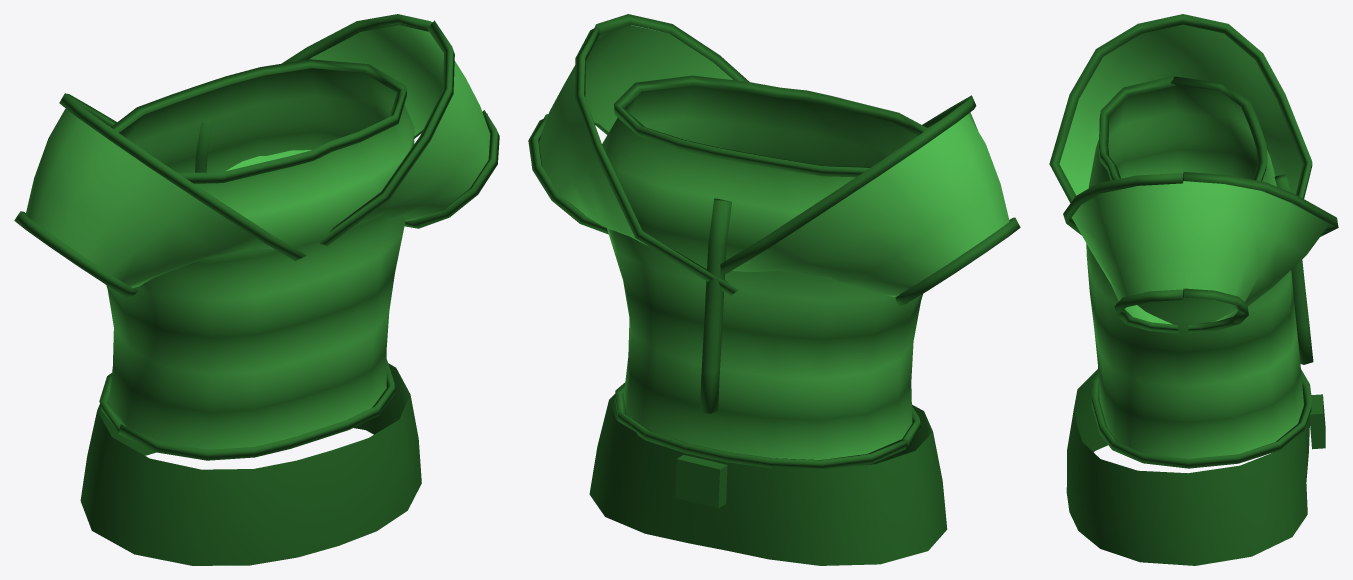
File: chlorophyte_plate_mail.glb
The picture shows the model from 3 angles, left to right: view 1: azimuth 30°, elevation 25°; view 2: azimuth 150°, elevation 25°; view 3: azimuth 270°, elevation 25°; orthographic projection. The views are drawn at different scales.
Visible parts, largest first — view 1: chlorophyte_plate_mail_chest; view 2: chlorophyte_plate_mail_chest; view 3: chlorophyte_plate_mail_chest.
Boxes of the visible parts, x1,y1,x2,y2 form: chlorophyte_plate_mail_chest: (14, 14, 499, 565); chlorophyte_plate_mail_chest: (528, 14, 1020, 565); chlorophyte_plate_mail_chest: (1049, 14, 1338, 565).
Bounding box in the file's own units: 0.6477 × 0.592 × 0.3782.
